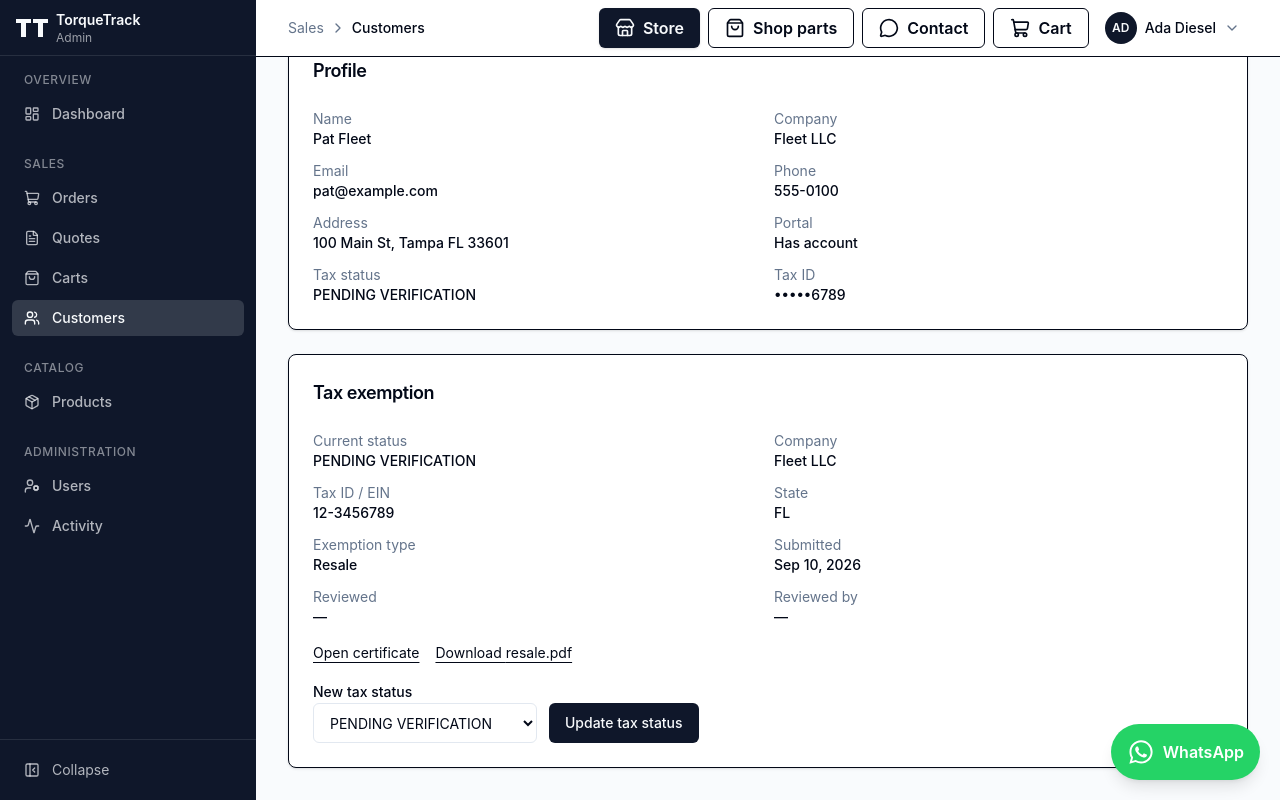
Test case: CustomerDetailPage › shows the error when the tax status update fails
This screenshot has width=1280, height=800.
(page scrolled)
Expected: the text "12-3456789" is shown, [313, 504, 394, 521]
Click the button "Update tax status". click: point(624, 723)
box: [549, 703, 699, 743]
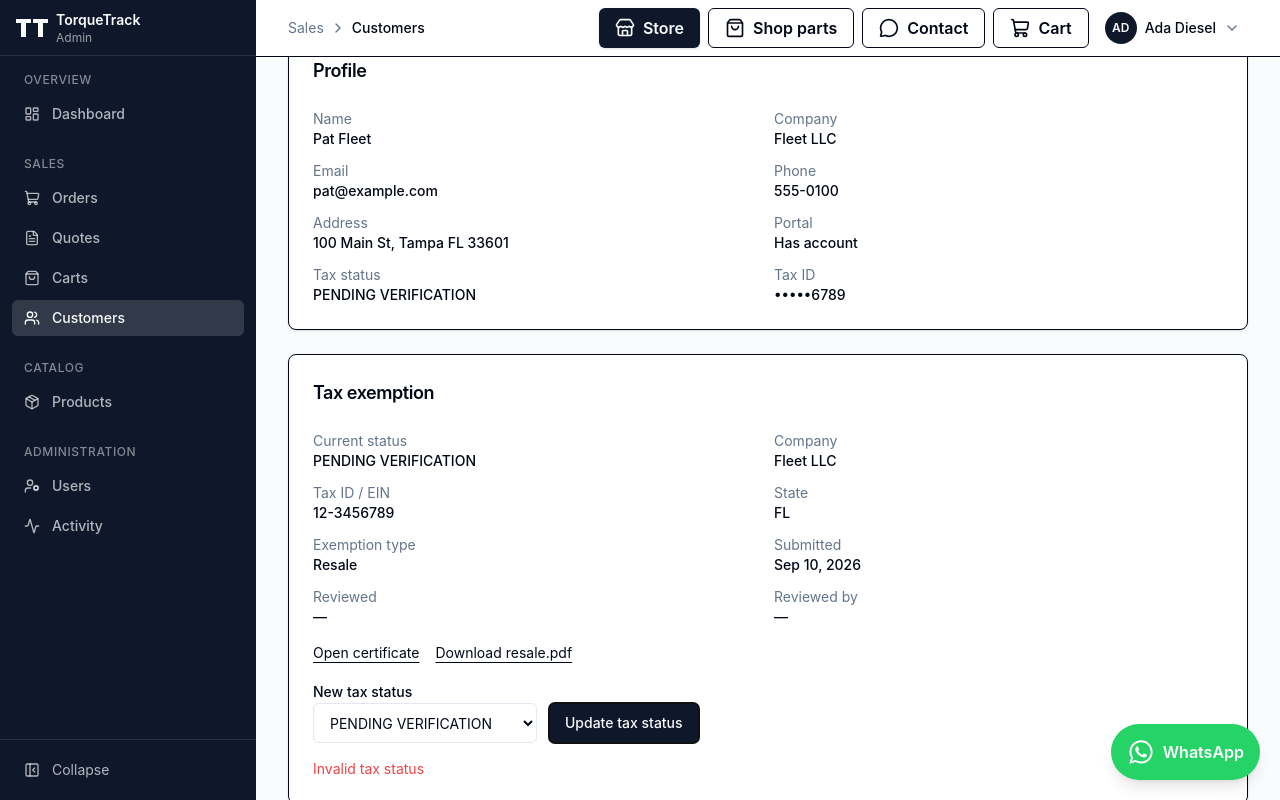
Expected: the text "Invalid tax status" is shown, [313, 760, 424, 777]
